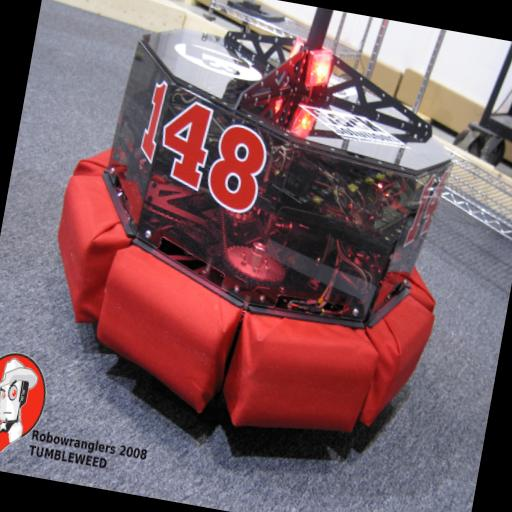robot: (17, 0, 494, 497)
